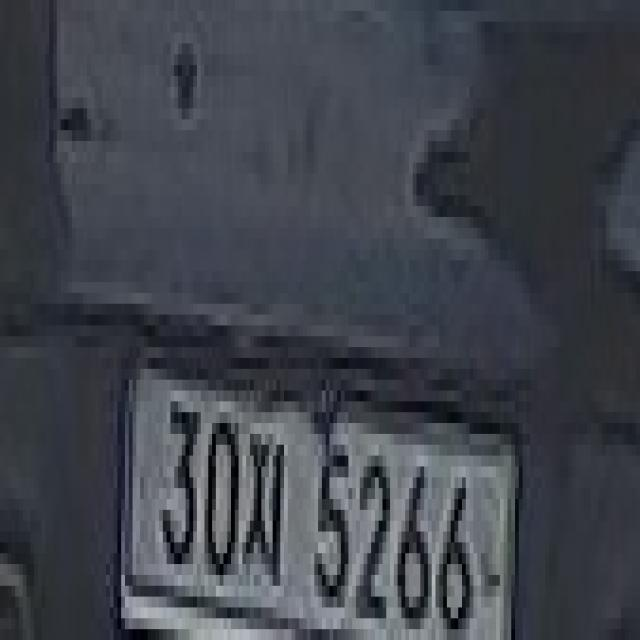0: (200, 412, 238, 597)
2: (352, 445, 394, 629)
3: (163, 390, 201, 575)
5: (311, 445, 352, 618)
6: (394, 456, 432, 629), (436, 477, 474, 640)
jeo: (238, 423, 288, 586)
license_plate: (121, 347, 515, 640)
